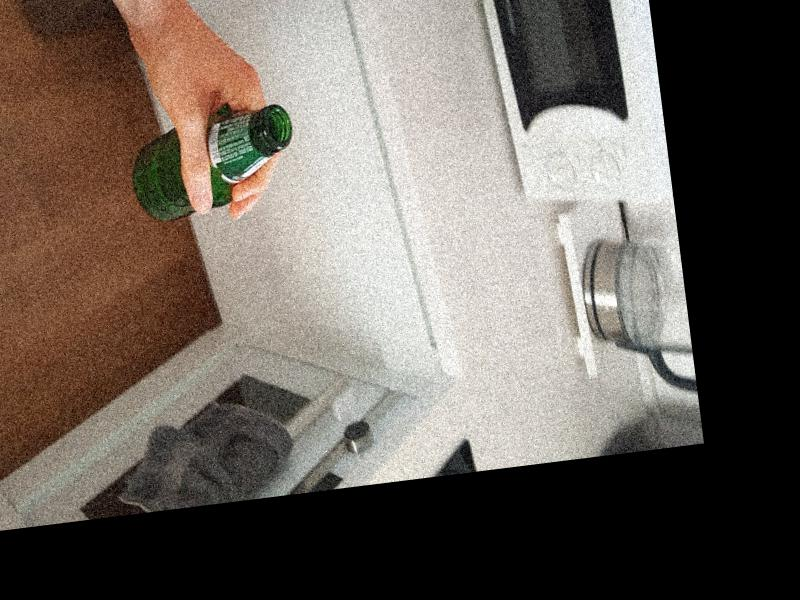Beer: (124, 102, 299, 225)
